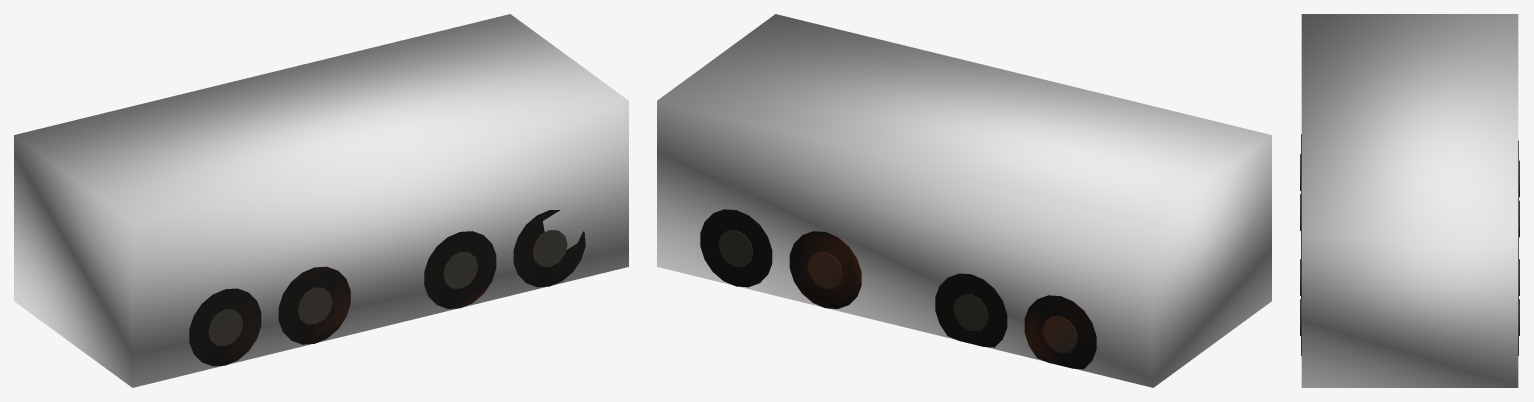
The model's file is blindado.glb.
3 views of the same model, side by side, from view 1: azimuth 30°, elevation 25°; view 2: azimuth 150°, elevation 25°; view 3: azimuth 270°, elevation 25° (orthographic). The views are drawn at different scales.
Visible parts, largest first — view 1: blindado-colcaja, blindado; view 2: blindado-colcaja, blindado; view 3: blindado-colcaja, blindado.
Boxes of the visible parts, x1,y1,x2,y2 form: blindado-colcaja: (14, 14, 628, 387); blindado: (189, 210, 585, 366); blindado-colcaja: (657, 14, 1271, 387); blindado: (700, 209, 1096, 369); blindado-colcaja: (1301, 14, 1518, 387); blindado: (1300, 134, 1519, 355).
Size of the model in its own units: 7.5 by 2.4 by 3.14.
